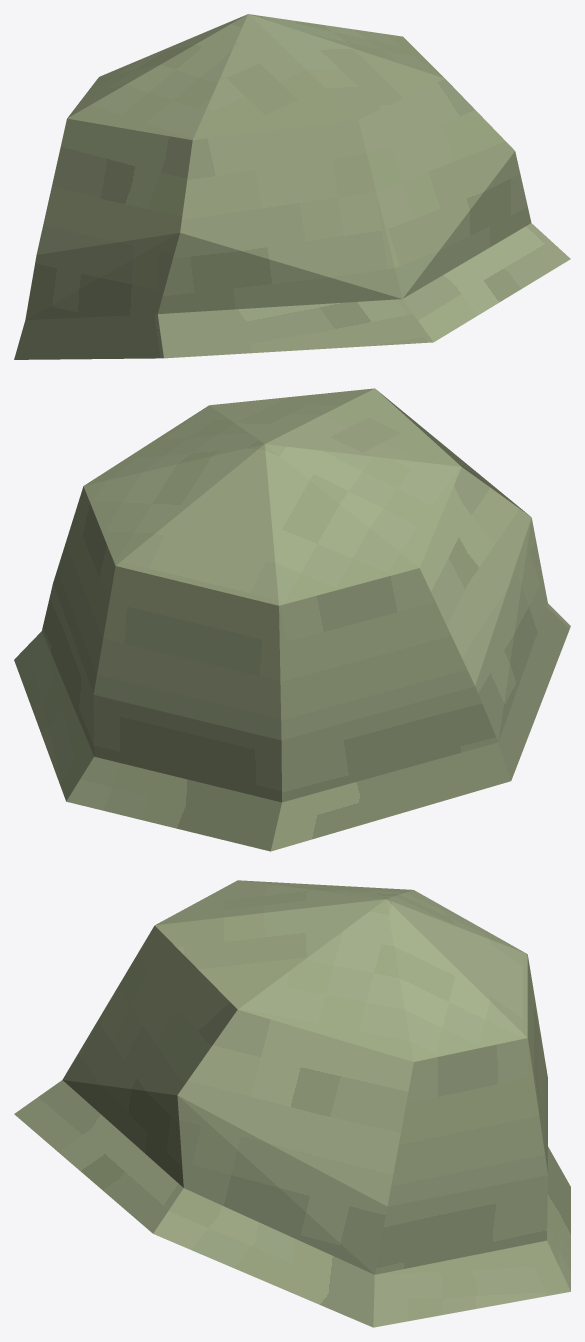
File: helmet.gltf
3 views of the same model, one above another, from view 1: azimuth 30°, elevation 25°; view 2: azimuth 150°, elevation 25°; view 3: azimuth 270°, elevation 25° (orthographic). The views are drawn at different scales.
Visible parts, largest first — view 1: helmet; view 2: helmet; view 3: helmet.
Boxes of the visible parts, x1=… form: helmet: x1=14, y1=14, x2=570, y2=359; helmet: x1=14, y1=388, x2=570, y2=851; helmet: x1=14, y1=880, x2=570, y2=1327.
Size of the model in its own units: 0.4594 by 0.2826 by 0.4245.
Materials: 1 (1 with a texture image).
